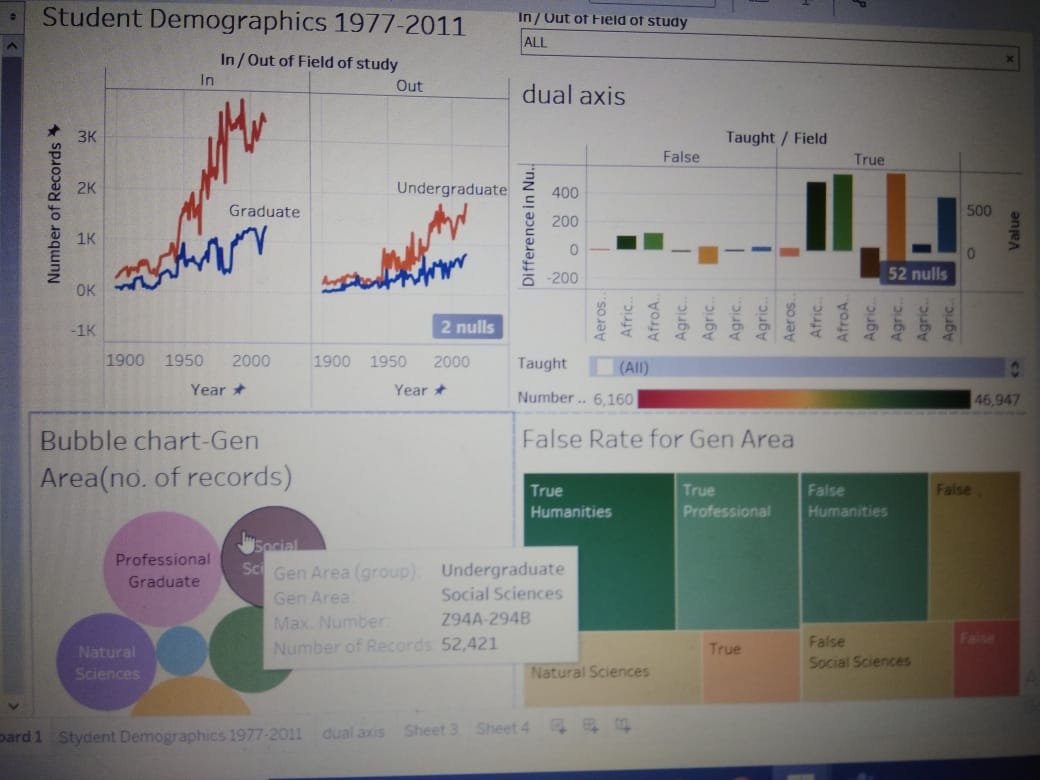

The dashboard page shown, as its layout file describes it:
{"tool":"tableau","page":{"name":"Dashboard 1","canvas":[1000,800],"ordinal":0},"visuals":[{"type":"worksheet","title":"Student Demographics 1977-2011","mark":"Line","rows":["Number of Records"],"cols":["Field of study","Year"],"box":[8,8,457,403]},{"type":"filter","title":"Student Demographics 1977-2011","param":"[federated.090gvee1dlknxa1bgoobn0owi1fo].[io:Field of study:nk]","box":[465,8,527,63]},{"type":"worksheet","title":"dual axis","mark":"Bar","rows":["Number of Records"],"cols":["Taught","Field"],"box":[465,71,527,276]},{"type":"filter","title":"dual axis","param":"[federated.090gvee1dlknxa1bgoobn0owi1fo].[none:Taught:nk]","box":[465,347,527,32]},{"type":"legend","title":"Sheet 4","param":"[federated.090gvee1dlknxa1bgoobn0owi1fo].[sum:Number of Records:qk]","box":[465,379,527,32]},{"type":"worksheet","title":"Sheet 3","mark":"Circle","box":[8,411,457,381]},{"type":"worksheet","title":"Sheet 4","mark":"Automatic","box":[465,411,527,381]}]}

Visuals, with their boxes on the page's 1000x800 design canvas (x1, y1, x2, y2). These are canvas units, not pixel positions in the 1040x780 screenshot, which may show the page scaled, cropped or inside an application window:
"Student Demographics 1977-2011" worksheet (Line marks): 8/8/465/411
"Student Demographics 1977-2011" filter: 465/8/992/71
"dual axis" worksheet (Bar marks): 465/71/992/347
"dual axis" filter: 465/347/992/379
"Sheet 4" legend: 465/379/992/411
"Sheet 3" worksheet (Circle marks): 8/411/465/792
"Sheet 4" worksheet: 465/411/992/792
